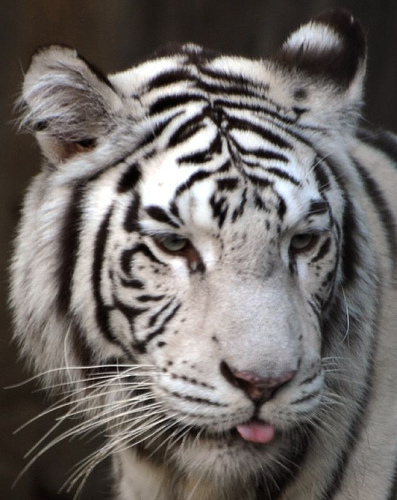Tigre: (16, 33, 372, 430)
